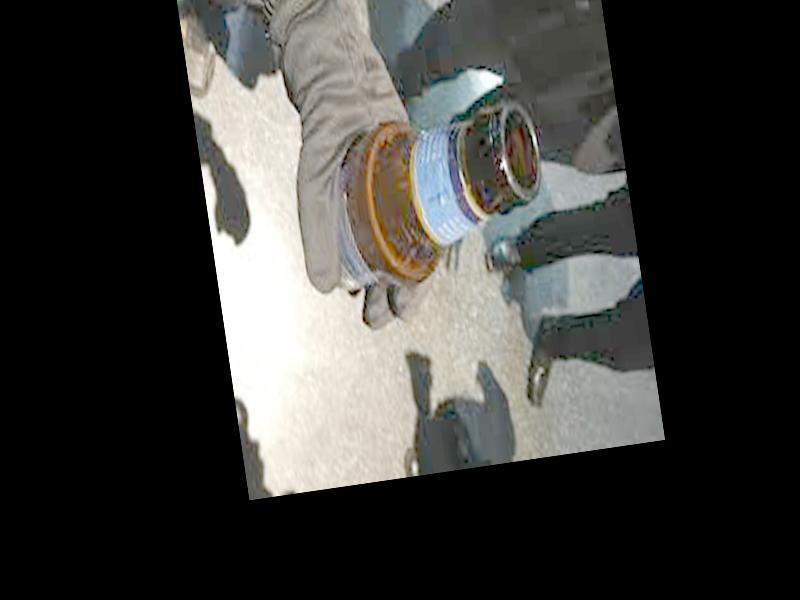Beer: (299, 95, 556, 305)
